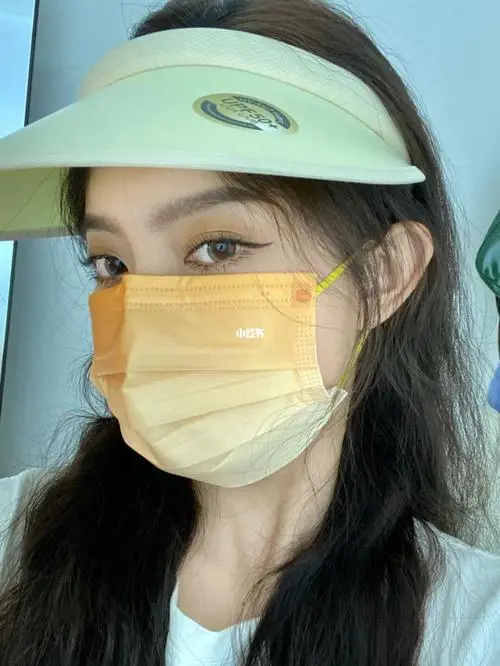withmask: (21, 35, 458, 491)
